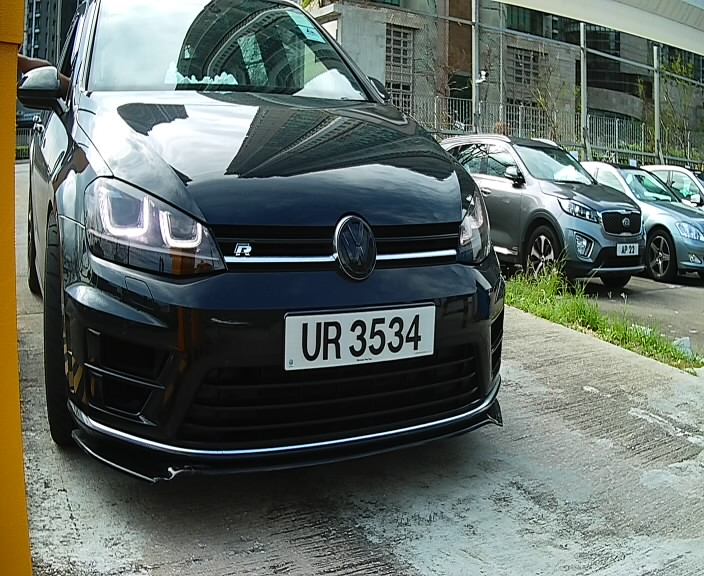Car: (37, 15, 526, 501)
License Plate: (274, 302, 443, 376)
